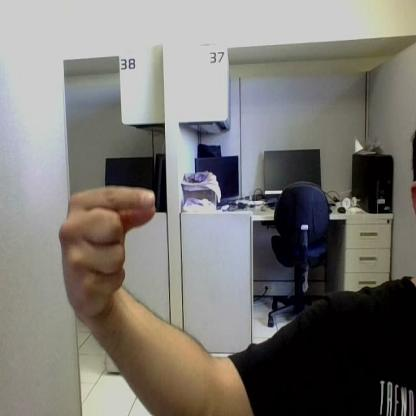G: (60, 186, 154, 314)
